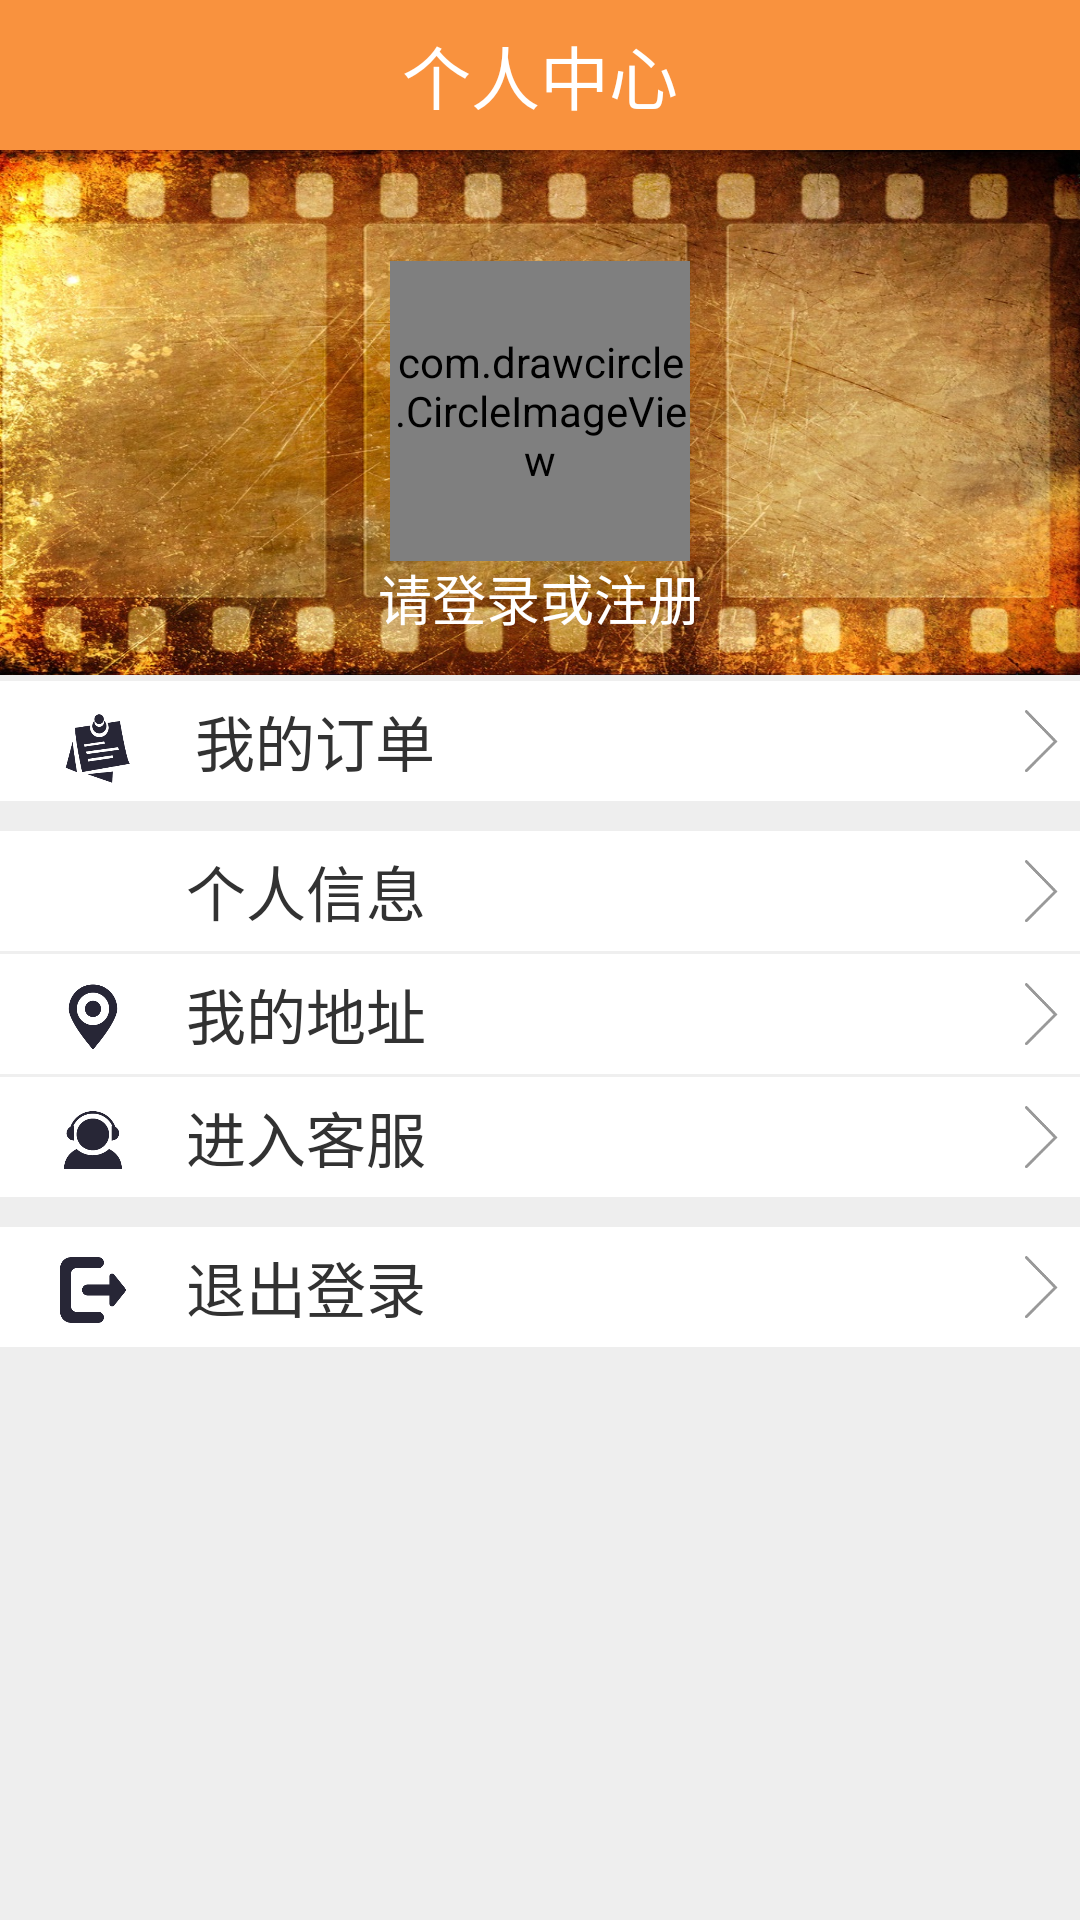

Screen size 1080*1920. Icon name, then its box in pixels as BBox(x1, y1, x2, y2):
exit: BBox(60, 1257, 126, 1323)
right: BBox(1025, 710, 1058, 772), BBox(1025, 860, 1058, 922), BBox(1025, 983, 1058, 1045), BBox(1025, 1106, 1058, 1168), BBox(1025, 1256, 1058, 1318)
